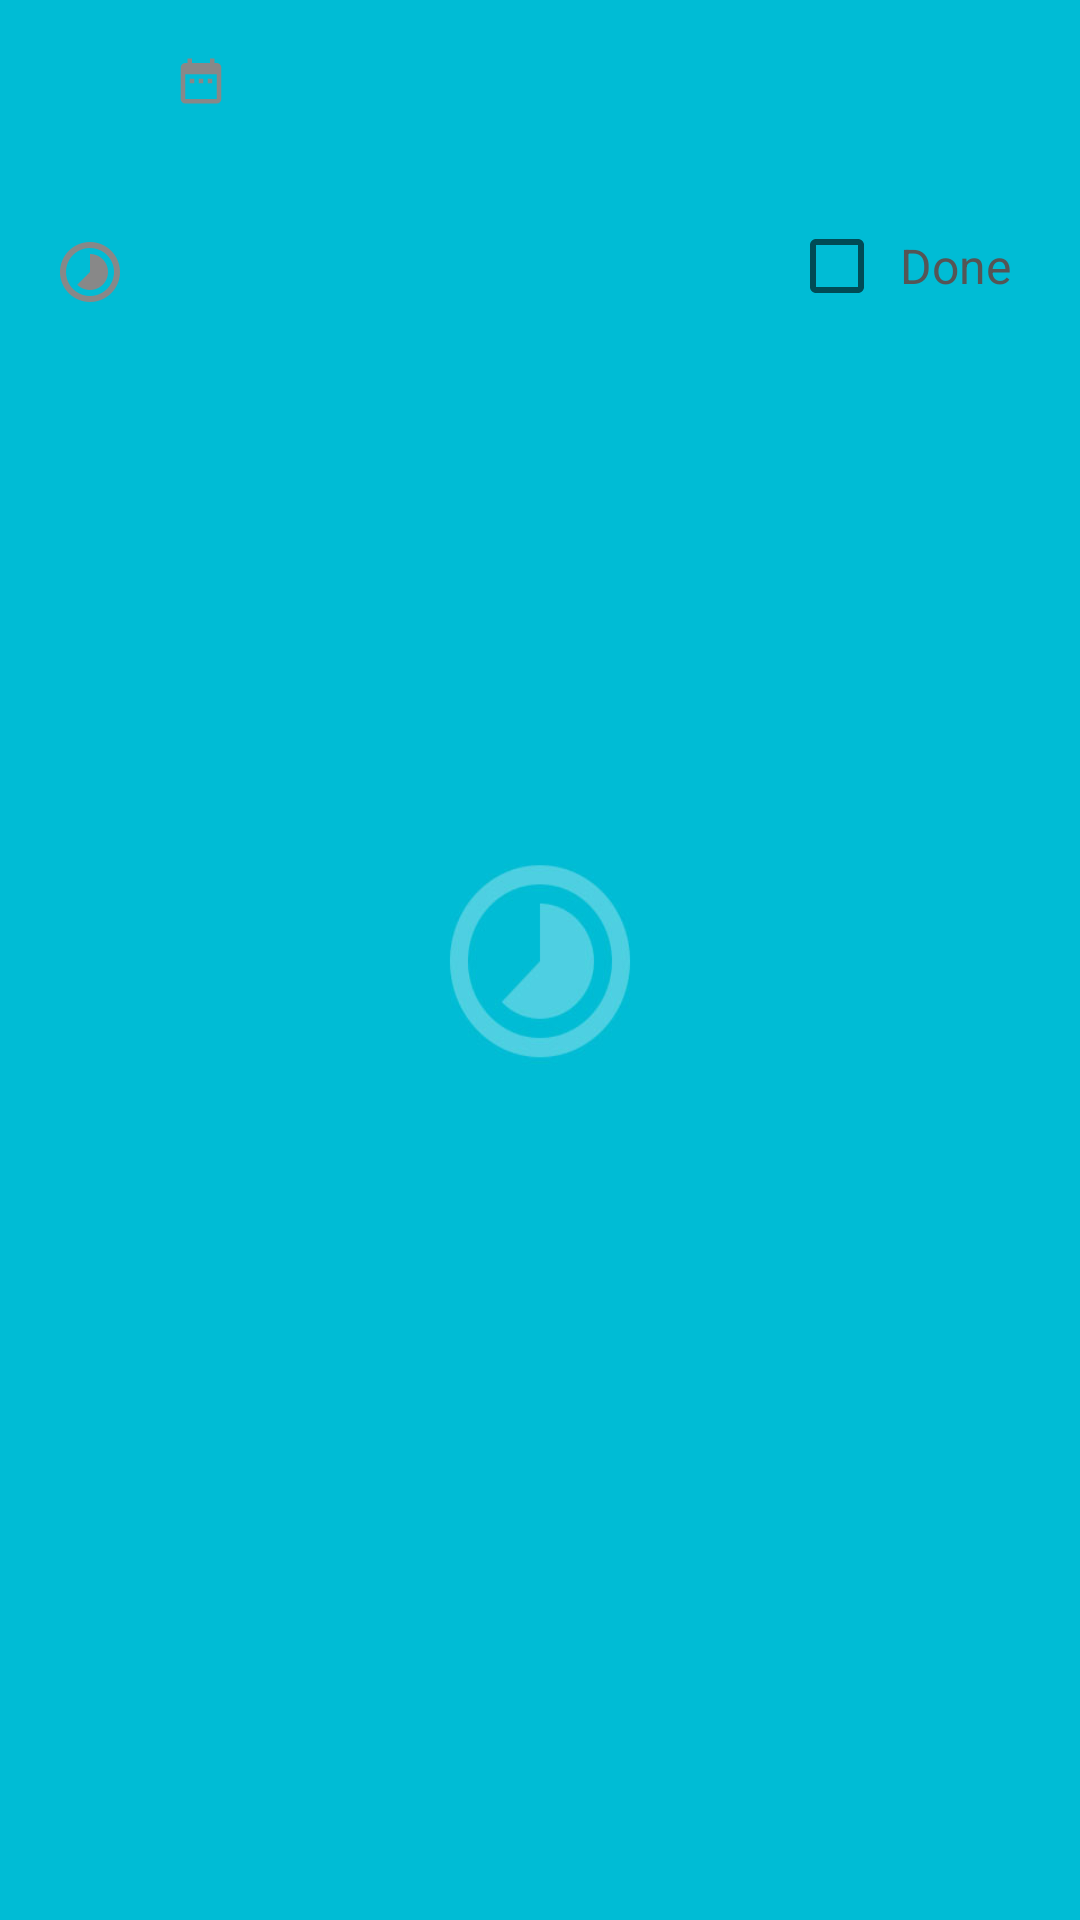

Locate icon controls on the screen. Image size 1080w x 1920h, boxes as (x1, y1, x2, y2).
Ícone de data da tarefa: (180, 58, 222, 104)
Ícone de tempo de duração de tarefa: (60, 242, 120, 302)
